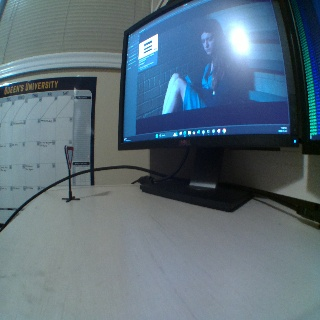sign_yield: (62, 144, 75, 167)
